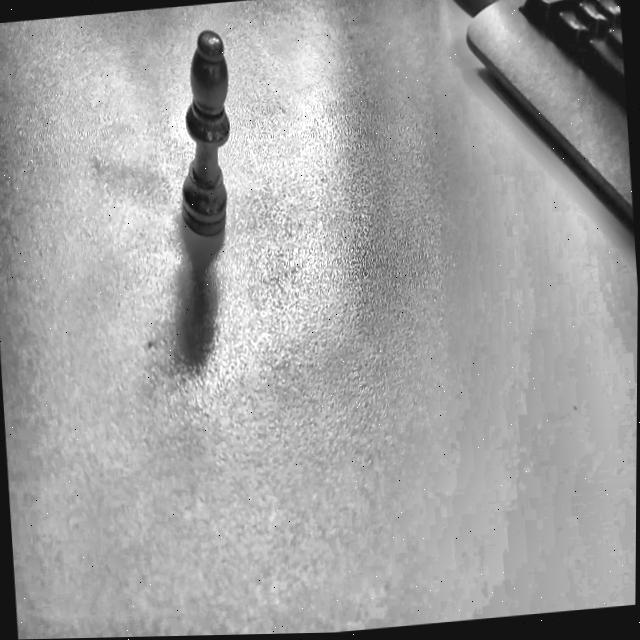black-bishop: (153, 18, 258, 267)
